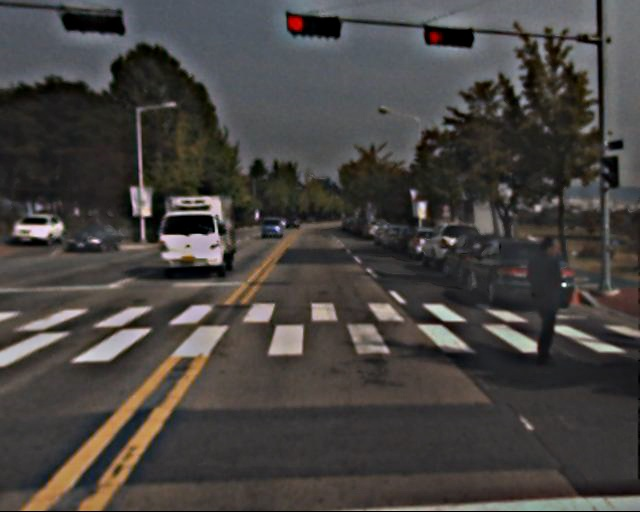person: (516, 237, 572, 372)
